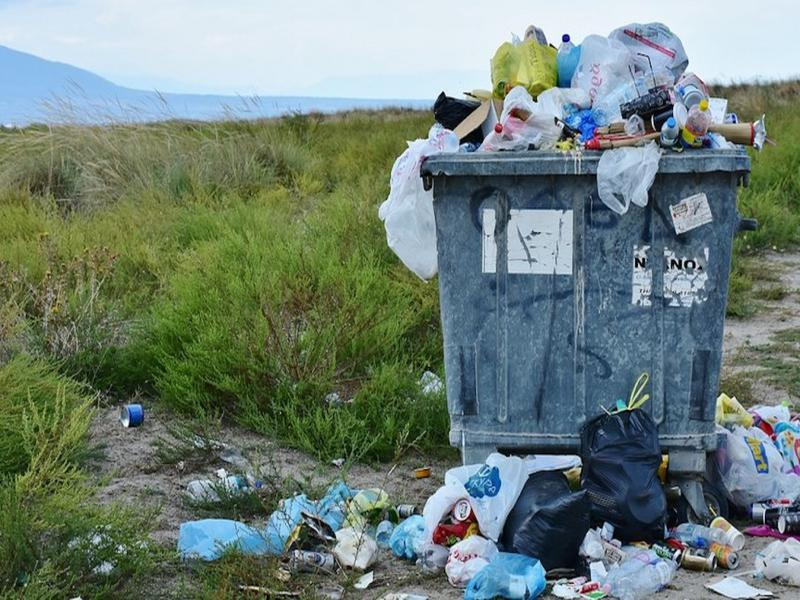can: (672, 542, 723, 578)
plastic: (379, 126, 466, 289), (575, 402, 673, 544), (163, 485, 302, 571), (507, 454, 600, 573), (422, 447, 529, 540), (588, 137, 667, 219), (718, 427, 800, 504), (480, 84, 565, 153), (465, 551, 554, 600), (440, 534, 501, 589), (327, 523, 379, 572)
